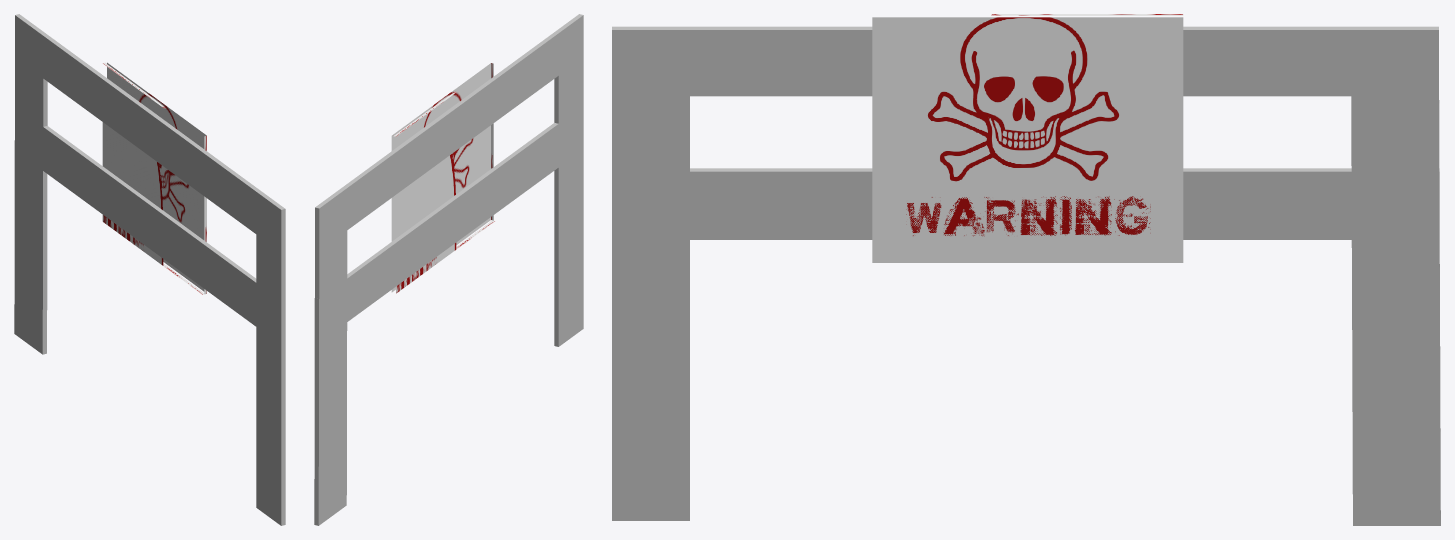
File: tabl.fbx
3 views of the same model, side by side, from view 1: azimuth 30°, elevation 25°; view 2: azimuth 150°, elevation 25°; view 3: azimuth 270°, elevation 25° (orthographic). The views are drawn at different scales.
Visible parts, largest first — view 1: Cube, Cube.001; view 2: Cube, Cube.001; view 3: Cube, Cube.001.
Part boxes in pixels (x1=…): Cube: x1=14, y1=14, x2=285, y2=525; Cube.001: x1=102, y1=62, x2=206, y2=294; Cube: x1=314, y1=14, x2=583, y2=525; Cube.001: x1=391, y1=63, x2=494, y2=293; Cube: x1=612, y1=26, x2=1440, y2=525; Cube.001: x1=872, y1=14, x2=1183, y2=262.
Size of the model in its own units: 4.37 by 145 by 213.
Materials: 2 (1 with a texture image).
